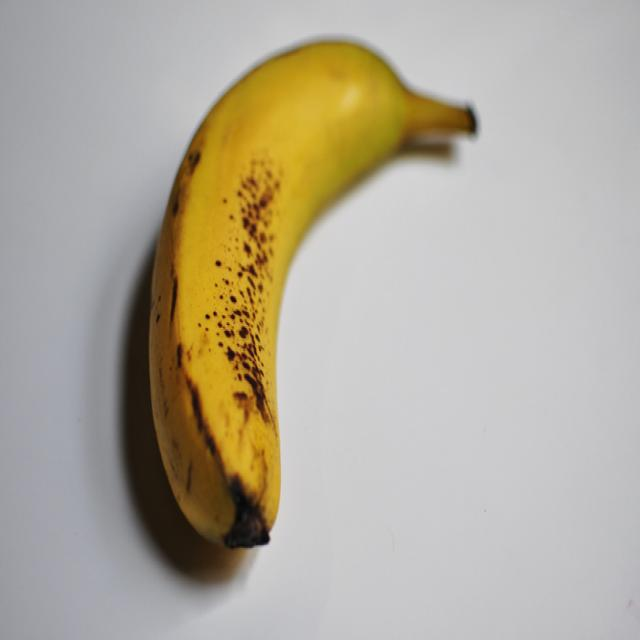Banana: (141, 37, 477, 556)
